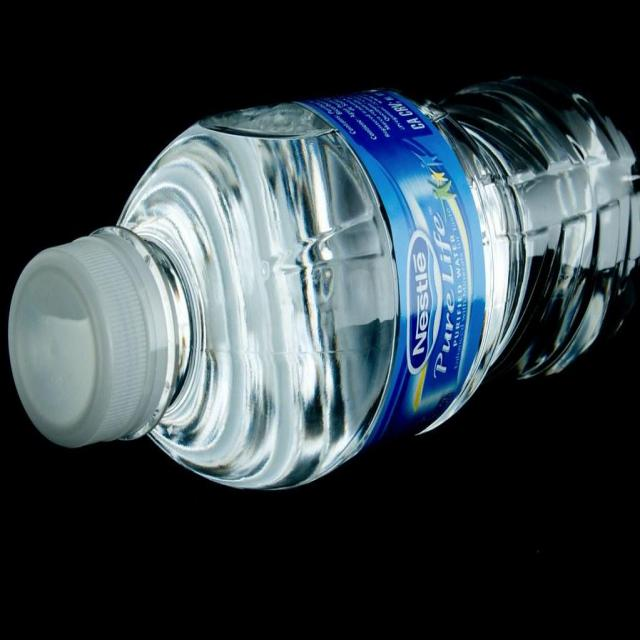bottle: (6, 55, 640, 481)
